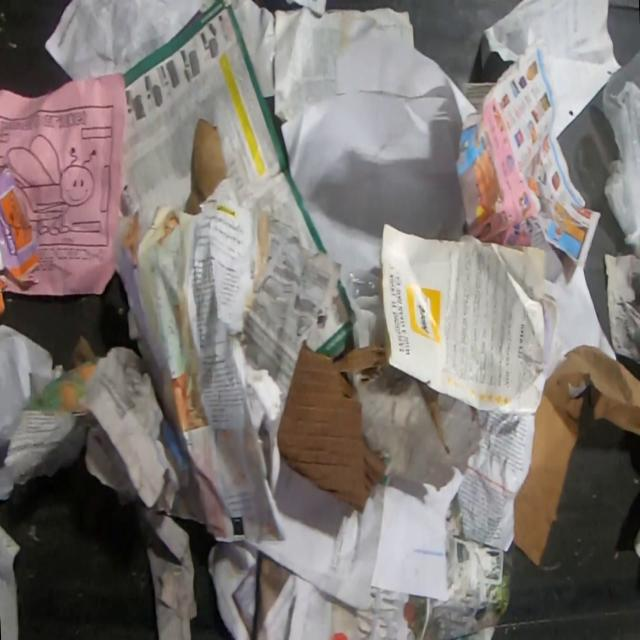cardboard: (76, 342, 199, 640), (512, 341, 640, 568), (277, 337, 388, 513), (344, 357, 482, 492), (0, 167, 41, 317), (183, 117, 228, 215), (603, 251, 640, 365)
soft_plastic: (600, 48, 640, 257), (344, 265, 382, 302)
